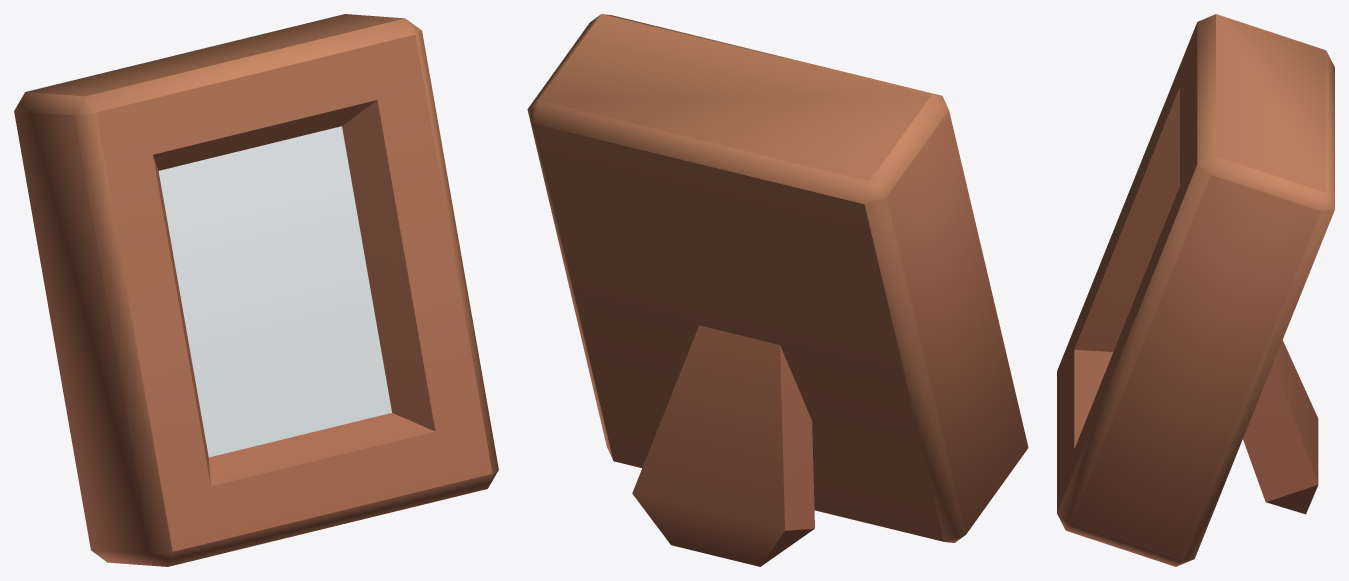
Rendered from kay-porta-retrato.gltf.
The picture shows the model from 3 angles, left to right: view 1: azimuth 30°, elevation 25°; view 2: azimuth 150°, elevation 25°; view 3: azimuth 270°, elevation 25°; orthographic projection. The views are drawn at different scales.
Parts seen in each view (by area): view 1: pictureframe_standing_A; view 2: pictureframe_standing_A; view 3: pictureframe_standing_A.
Boxes of the visible parts, x1,y1,x2,y2 form: pictureframe_standing_A: (14,14,498,566); pictureframe_standing_A: (527,14,1028,566); pictureframe_standing_A: (1057,14,1334,566).
Bounding box in the file's own units: 0.325 × 0.4021 × 0.2467.
Materials: 1 (1 with a texture image).
